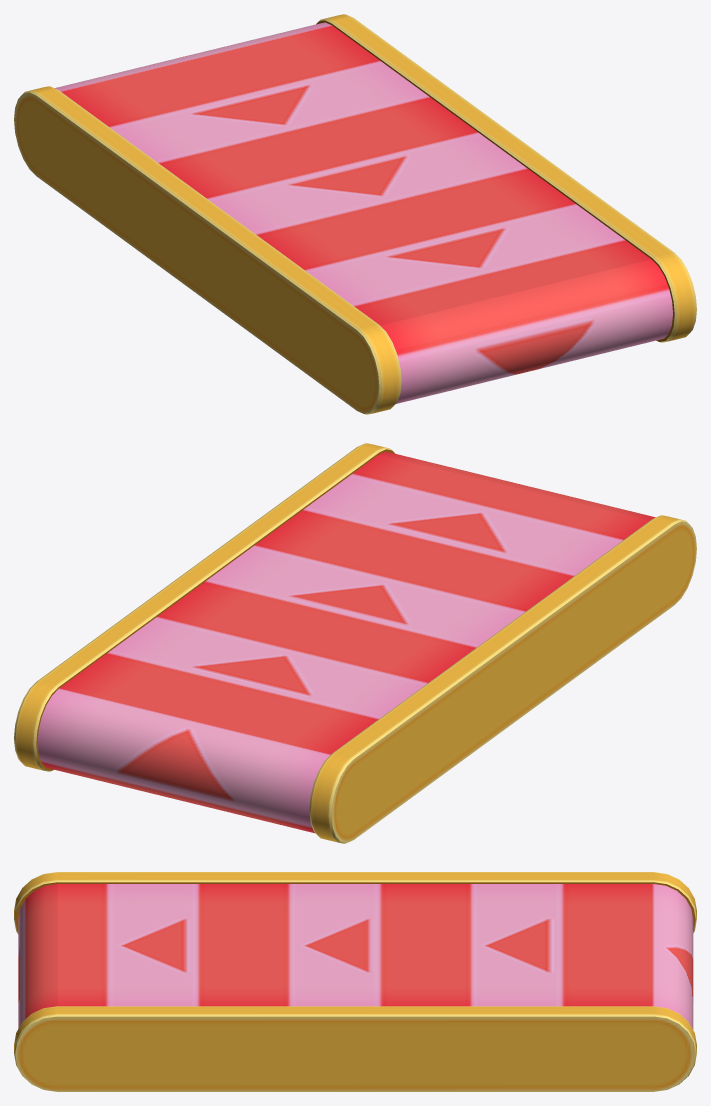
File: Conveyor_S.fbx
3 renders of one model, top to bottom at view 1: azimuth 30°, elevation 25°; view 2: azimuth 150°, elevation 25°; view 3: azimuth 270°, elevation 25°, orthographic. The views are drawn at different scales.
Visible parts, largest first — view 1: conveyor_S; view 2: conveyor_S; view 3: conveyor_S.
Boxes of the visible parts, x1,y1,x2,y2 form: conveyor_S: [14, 14, 696, 414]; conveyor_S: [14, 443, 696, 843]; conveyor_S: [14, 872, 696, 1091].
Size of the model in its own units: 200 by 50 by 400.
